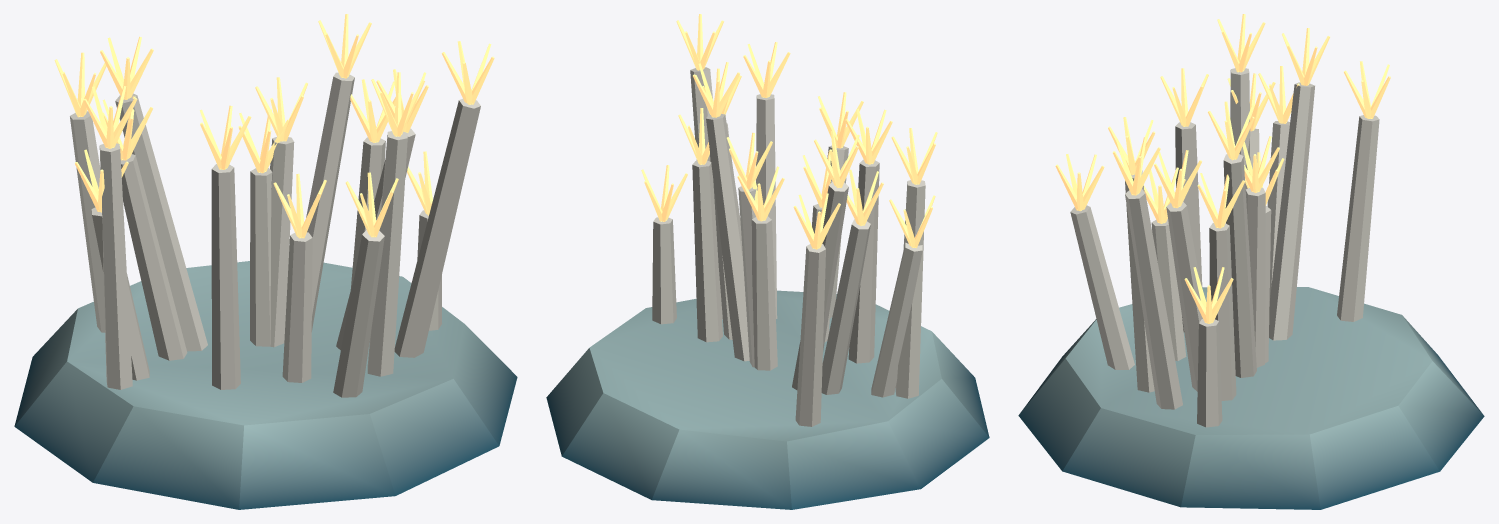
The model's file is prop_tubeworm_garden.glb.
The picture shows the model from 3 angles, left to right: view 1: azimuth 30°, elevation 25°; view 2: azimuth 150°, elevation 25°; view 3: azimuth 270°, elevation 25°; orthographic projection. The views are drawn at different scales.
Parts seen in each view (by area): view 1: prop_tubeworm_garden_stone, prop_tubeworm_garden_bone, prop_tubeworm_garden_warm; view 2: prop_tubeworm_garden_stone, prop_tubeworm_garden_bone, prop_tubeworm_garden_warm; view 3: prop_tubeworm_garden_stone, prop_tubeworm_garden_bone, prop_tubeworm_garden_warm.
Boxes of the visible parts, x1,y1,x2,y2 form: prop_tubeworm_garden_stone: [14, 261, 517, 509]; prop_tubeworm_garden_bone: [70, 72, 480, 397]; prop_tubeworm_garden_warm: [54, 14, 494, 238]; prop_tubeworm_garden_stone: [546, 290, 989, 509]; prop_tubeworm_garden_bone: [652, 67, 925, 426]; prop_tubeworm_garden_warm: [641, 14, 937, 249]; prop_tubeworm_garden_stone: [1018, 287, 1484, 509]; prop_tubeworm_garden_bone: [1070, 68, 1379, 427]; prop_tubeworm_garden_warm: [1055, 14, 1390, 323].
Bounding box in the file's own units: 3.64 × 3.02 × 3.8.
